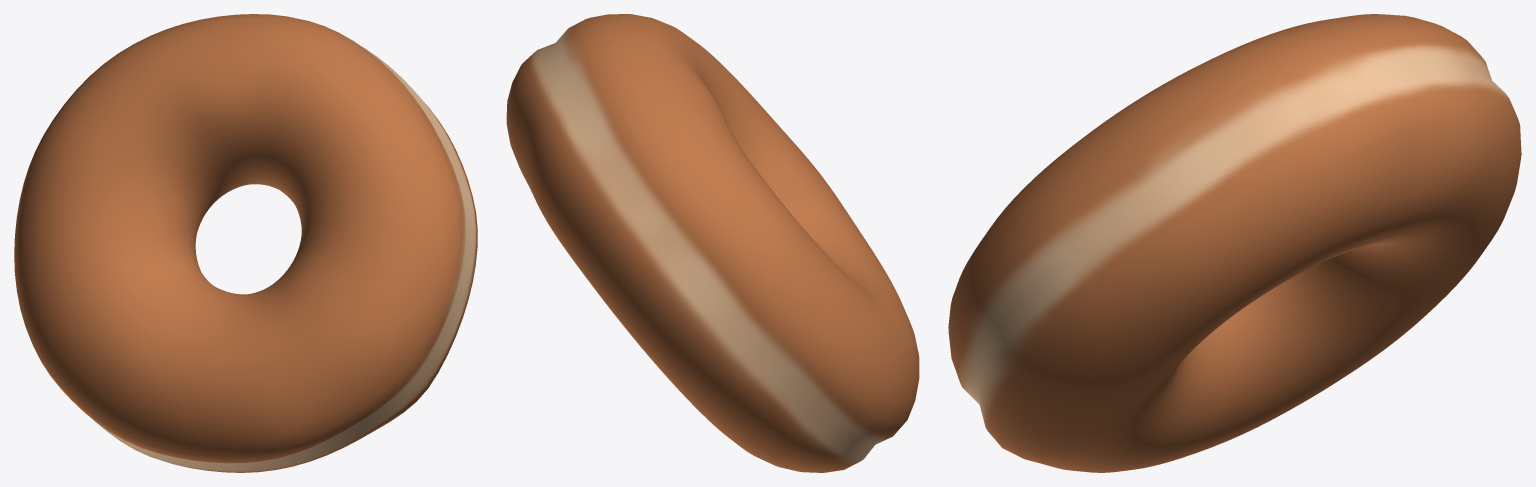
Rendered from donut-torus.glb.
3 views of the same model, side by side, from view 1: azimuth 30°, elevation 25°; view 2: azimuth 150°, elevation 25°; view 3: azimuth 270°, elevation 25° (orthographic). The views are drawn at different scales.
Visible parts, largest first — view 1: Donut; view 2: Donut; view 3: Donut.
Part boxes in pixels (box(x1,y1,x2,y2)): Donut: box(14, 14, 477, 472); Donut: box(506, 14, 919, 472); Donut: box(948, 14, 1521, 472).
Bounding box in the file's own units: 0.0923 × 0.0906 × 0.0967.
1 material, 1 textured.
